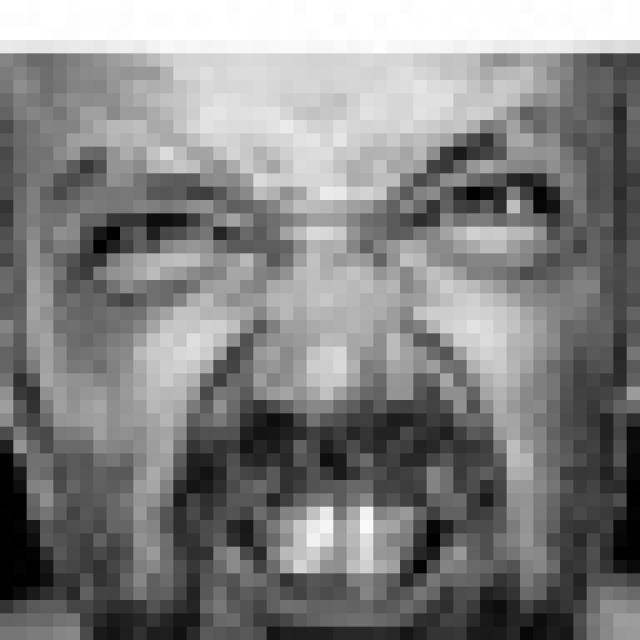angry: (44, 107, 574, 631)
